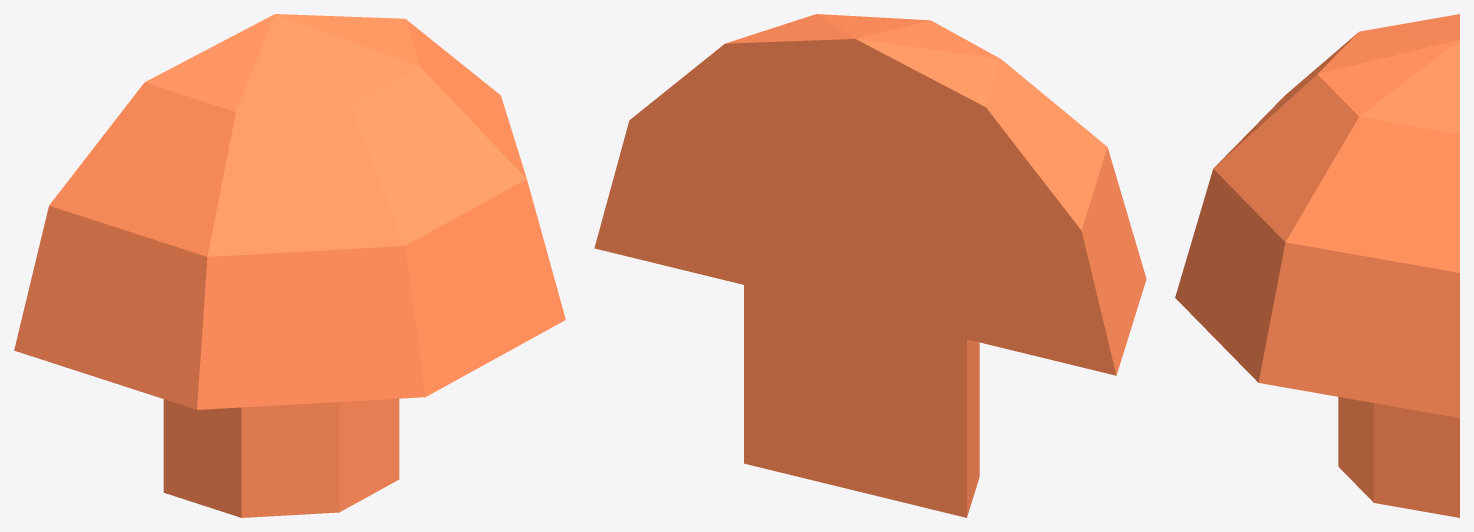
Rendered from topLeftBronzeMushroom.gltf.
3 views of the same model, side by side, from view 1: azimuth 30°, elevation 25°; view 2: azimuth 150°, elevation 25°; view 3: azimuth 270°, elevation 25° (orthographic). The views are drawn at different scales.
Visible parts, largest first — view 1: TopLeftBronzeMushroom; view 2: TopLeftBronzeMushroom; view 3: TopLeftBronzeMushroom.
Boxes of the visible parts, left/top/right/bottom form: TopLeftBronzeMushroom: left=14, top=14, right=565, bottom=517; TopLeftBronzeMushroom: left=594, top=14, right=1146, bottom=517; TopLeftBronzeMushroom: left=1175, top=14, right=1459, bottom=517.
Size of what is drawn, in the model's own units: 1.13 by 0.9363 by 0.5661.
